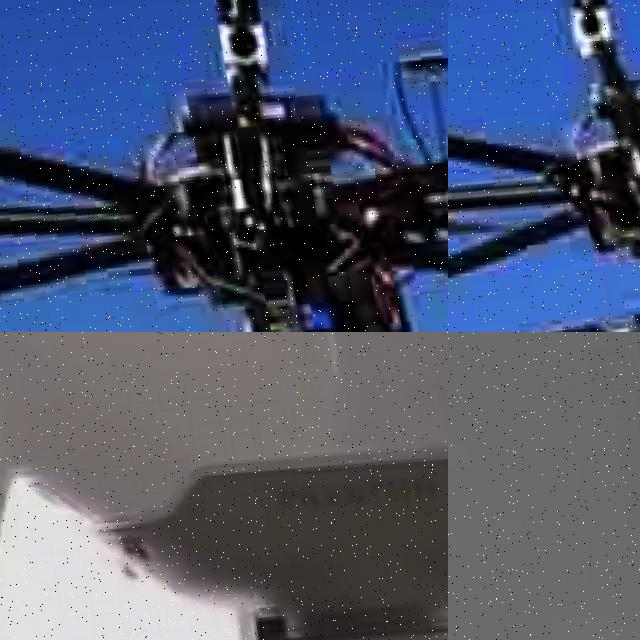drone: (0, 0, 448, 332), (0, 332, 448, 640), (448, 0, 640, 332)
